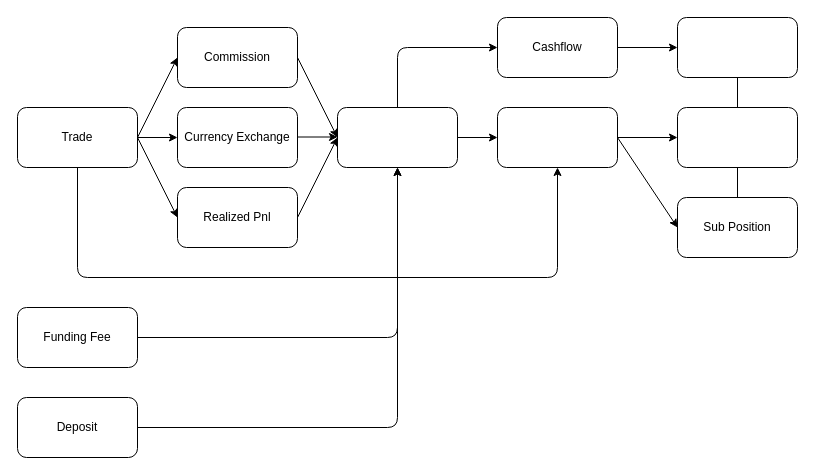
Some shapes in this 815 by 475 pixel diagram are drawn without their labels. The centre of each missing label's shape, as x and y in pixels:
Position: [737,137]
Position Flow: [557,137]
TAccount: [737,47]
Transaction: [397,137]
